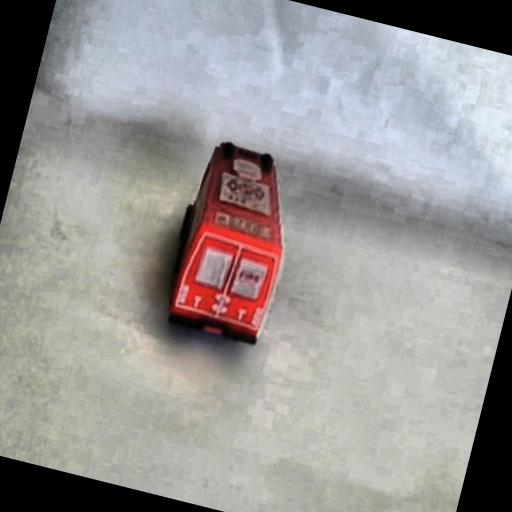fire_truck: (157, 136, 306, 347)
